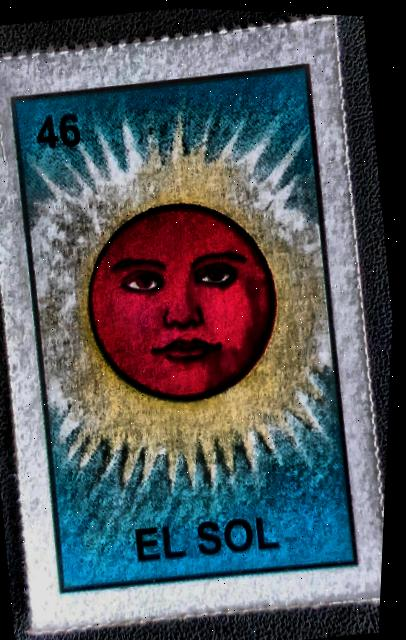El Sol: (0, 28, 405, 624)
